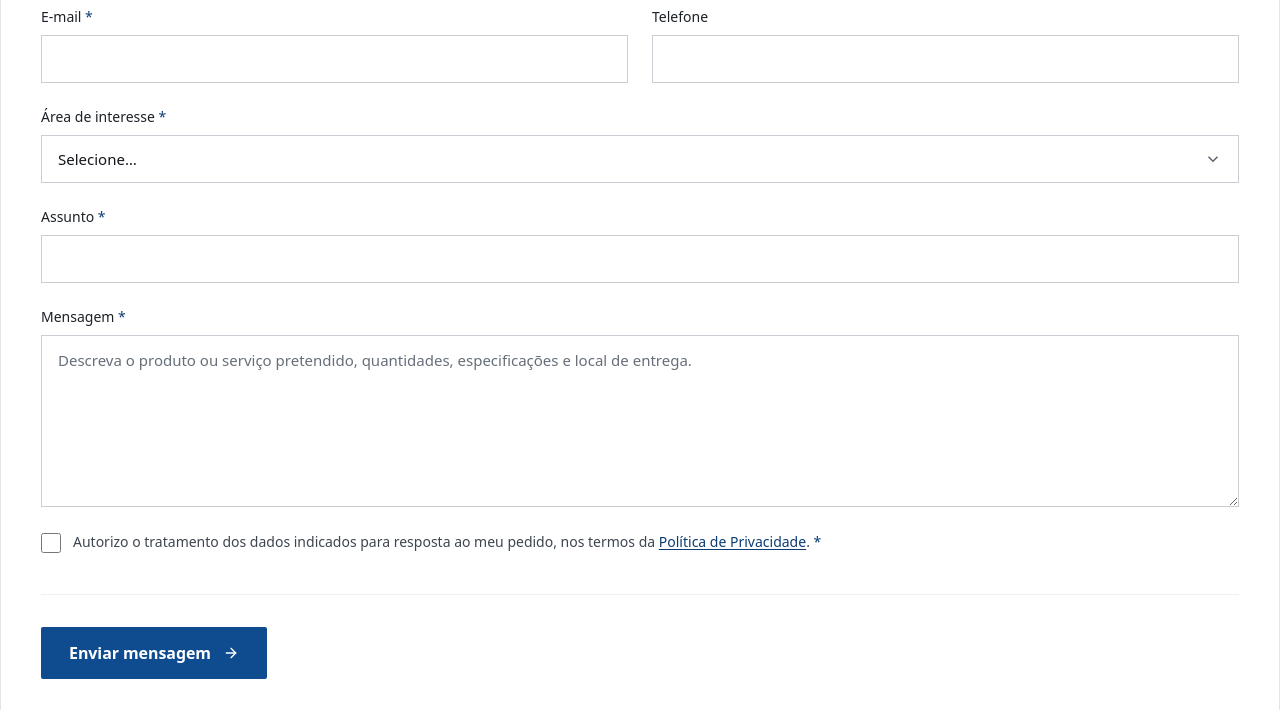
ContactForm › mostra erros de validação e não envia pedidos inválidos
The image size is (1280, 710).
(page scrolled)
Click the button "Enviar mensagem" at [154, 653], box 41,627 -> 267,679
(page scrolled)
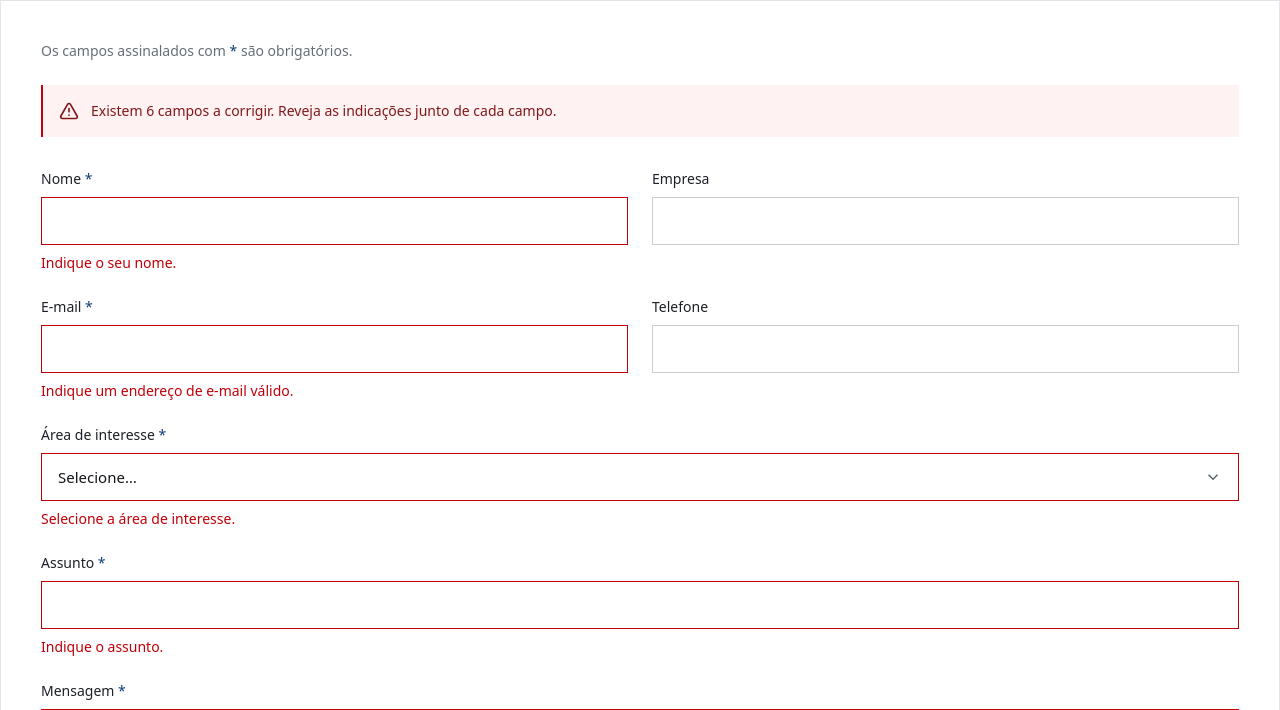
Now the text "Indique o seu nome." is shown, box 41,253 -> 176,272
Now the text "campos a corrigir" is shown, box 91,101 -> 274,120
